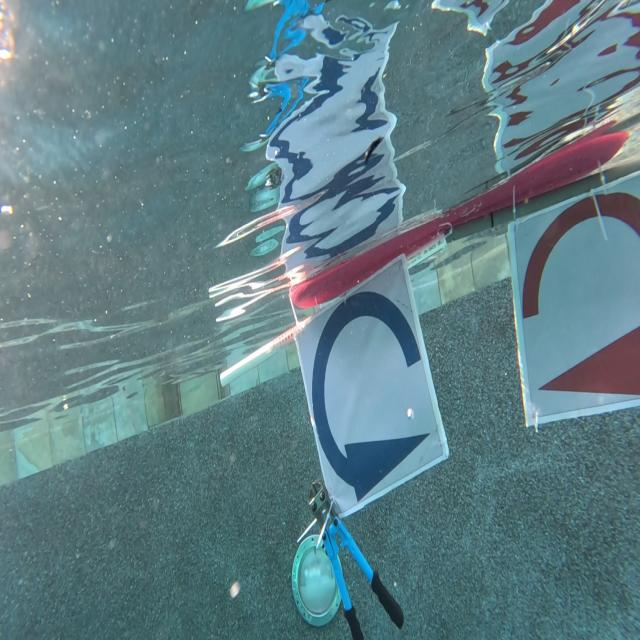blue_side: (295, 289, 432, 500)
red_side: (517, 182, 640, 396)
